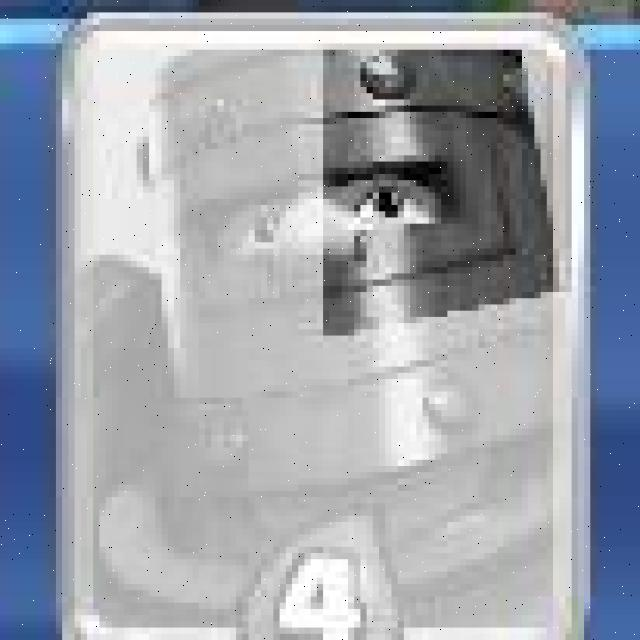Dark_Prince: (51, 10, 584, 640)
